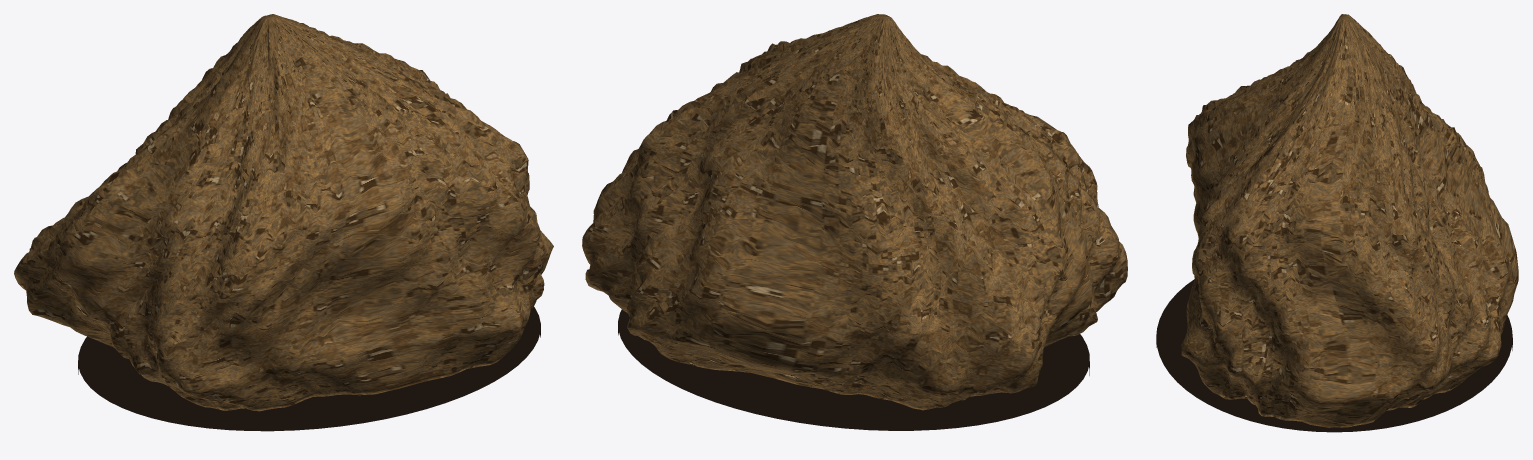
File: lingstone-concept-10-v19.glb
3 views of the same model, side by side, from view 1: azimuth 30°, elevation 25°; view 2: azimuth 150°, elevation 25°; view 3: azimuth 270°, elevation 25° (orthographic). The views are drawn at different scales.
Parts seen in each view (by area): view 1: XY-CONCEPT-010 concept stone, Concept display plinth; view 2: XY-CONCEPT-010 concept stone, Concept display plinth; view 3: XY-CONCEPT-010 concept stone, Concept display plinth.
Boxes of the visible parts, x1,y1,x2,y2 form: XY-CONCEPT-010 concept stone: [14, 14, 553, 411]; Concept display plinth: [78, 307, 540, 431]; XY-CONCEPT-010 concept stone: [582, 14, 1127, 410]; Concept display plinth: [618, 309, 1089, 430]; XY-CONCEPT-010 concept stone: [1181, 14, 1518, 427]; Concept display plinth: [1156, 279, 1512, 432].
Size of the model in its own units: 1.68 by 1.17 by 1.21.
Materials: 2 (1 with a texture image).
